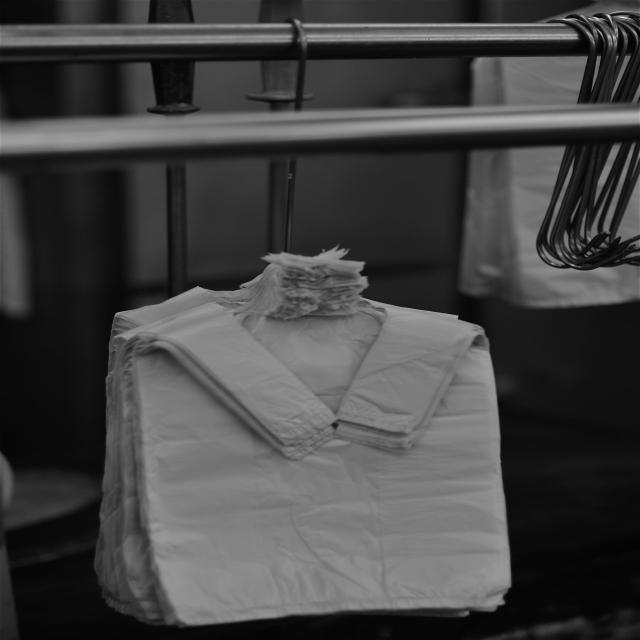KantongPlastik: (93, 247, 513, 628)
